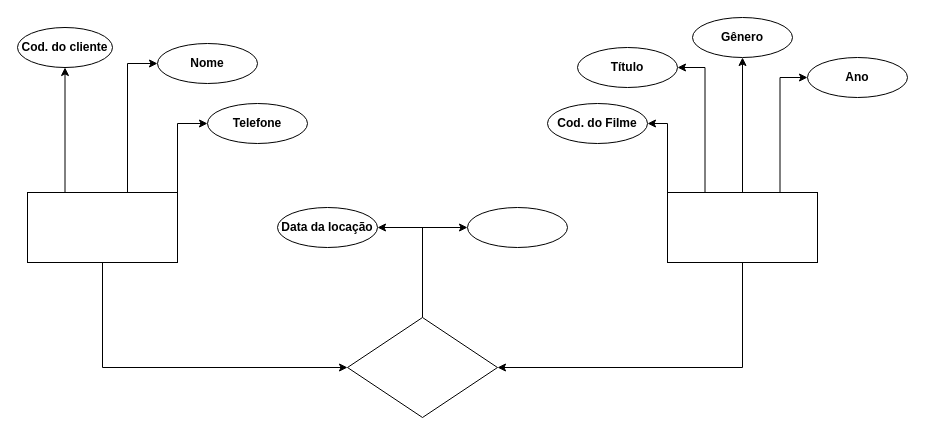
Some shapes in this 925 by 435 pixel diagram are drawn without their labels. Here are the shapes that lost their labels. From the top down, the centre of each, then its label:
the point at 102,227: CLIENTE
the point at 517,227: Data da devolução
the point at 742,227: FILMES
the point at 422,367: LOCAÇÃO
